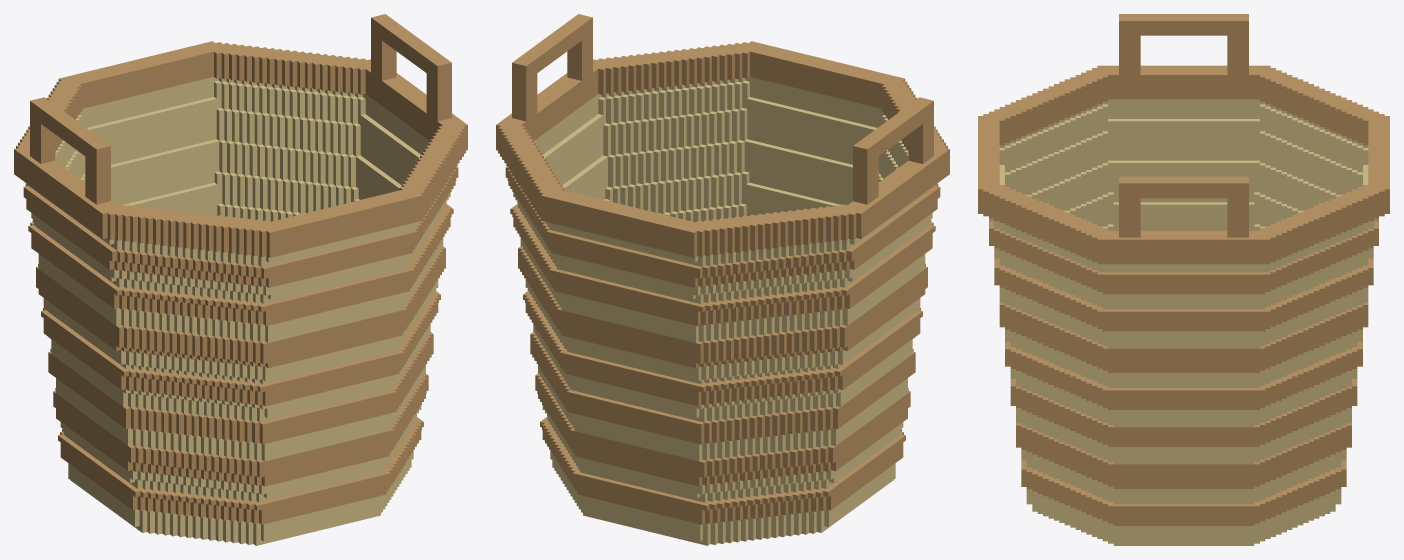
Rendered from wicker_basket_large.glb.
3 renders of one model, left to right at view 1: azimuth 30°, elevation 25°; view 2: azimuth 150°, elevation 25°; view 3: azimuth 270°, elevation 25°, orthographic. The views are drawn at different scales.
Visible parts, largest first — view 1: wicker_basket_large:compound; view 2: wicker_basket_large:compound; view 3: wicker_basket_large:compound.
Part boxes in pixels (x1,y1,x2,y2): wicker_basket_large:compound: (14, 14, 467, 545); wicker_basket_large:compound: (496, 14, 949, 545); wicker_basket_large:compound: (978, 14, 1389, 545).
Size of the model in its own units: 0.456 by 0.468 by 0.456.
